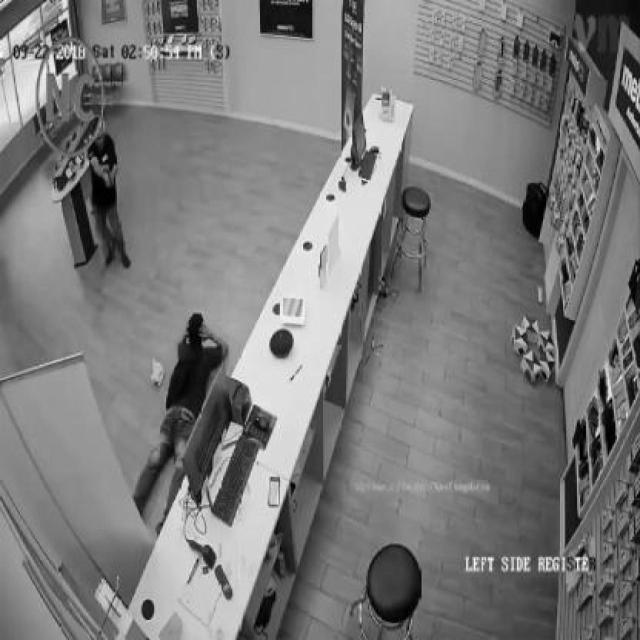weapon: (102, 168, 115, 194)
